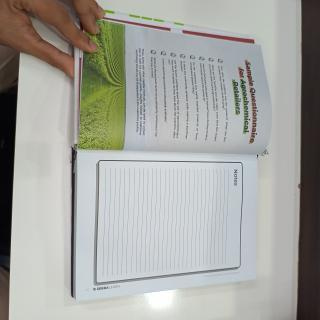book: (58, 0, 271, 307)
